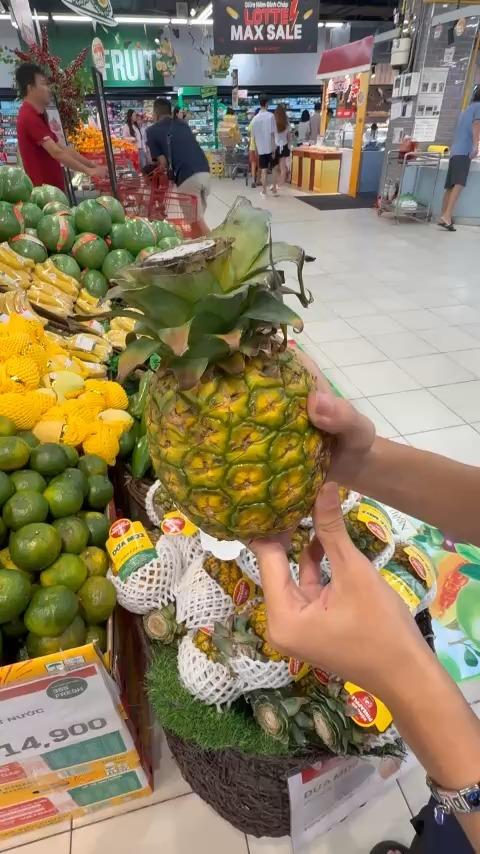pineapple: (125, 232, 347, 546)
